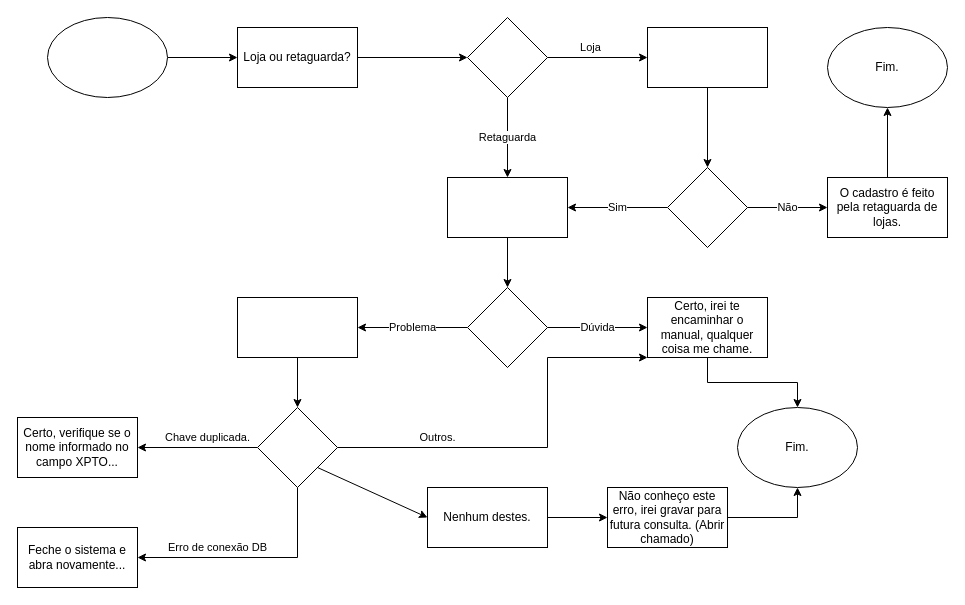
Image size: 965x605. Some labels were removed from this diagram. The shapes that lost their labels are listed below. From the top down, each one's centre as x and y in pixels, then its label:
point (107, 57): Início.
point (707, 57): Possui acesso ao ERP(RD-FARM)?
point (507, 207): Erro de cadastro ou dúvida do procedimento?
point (297, 327): Certo, qual a mensagem de erro?
